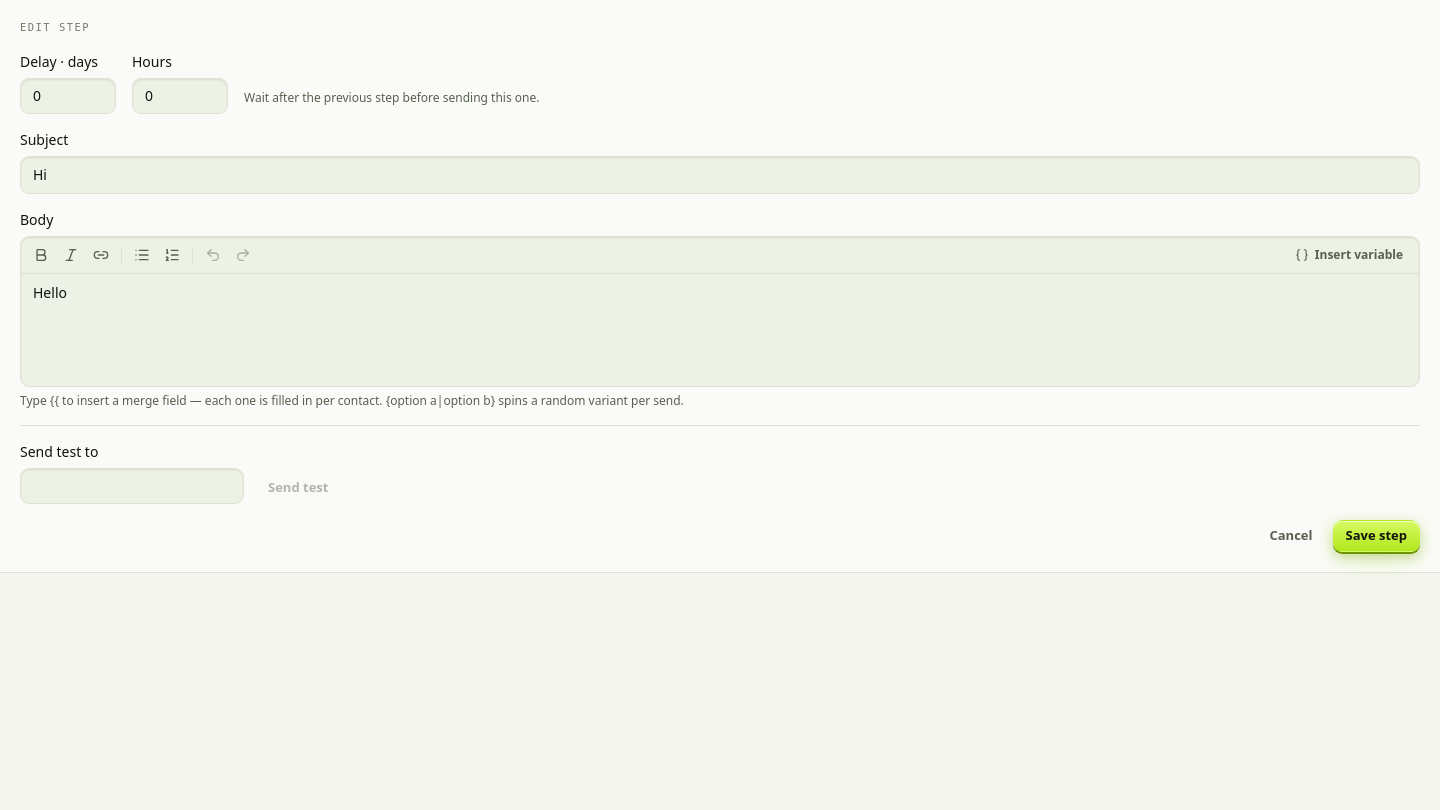
the Send test button is disabled while the address field is empty
expect the button "Send test" is disabled: met, box [256,472,340,504]
Type "a@b.com" into the field labelled "Send test to".
click(132, 486); type("a@b.com")  # box [20,468,244,504]
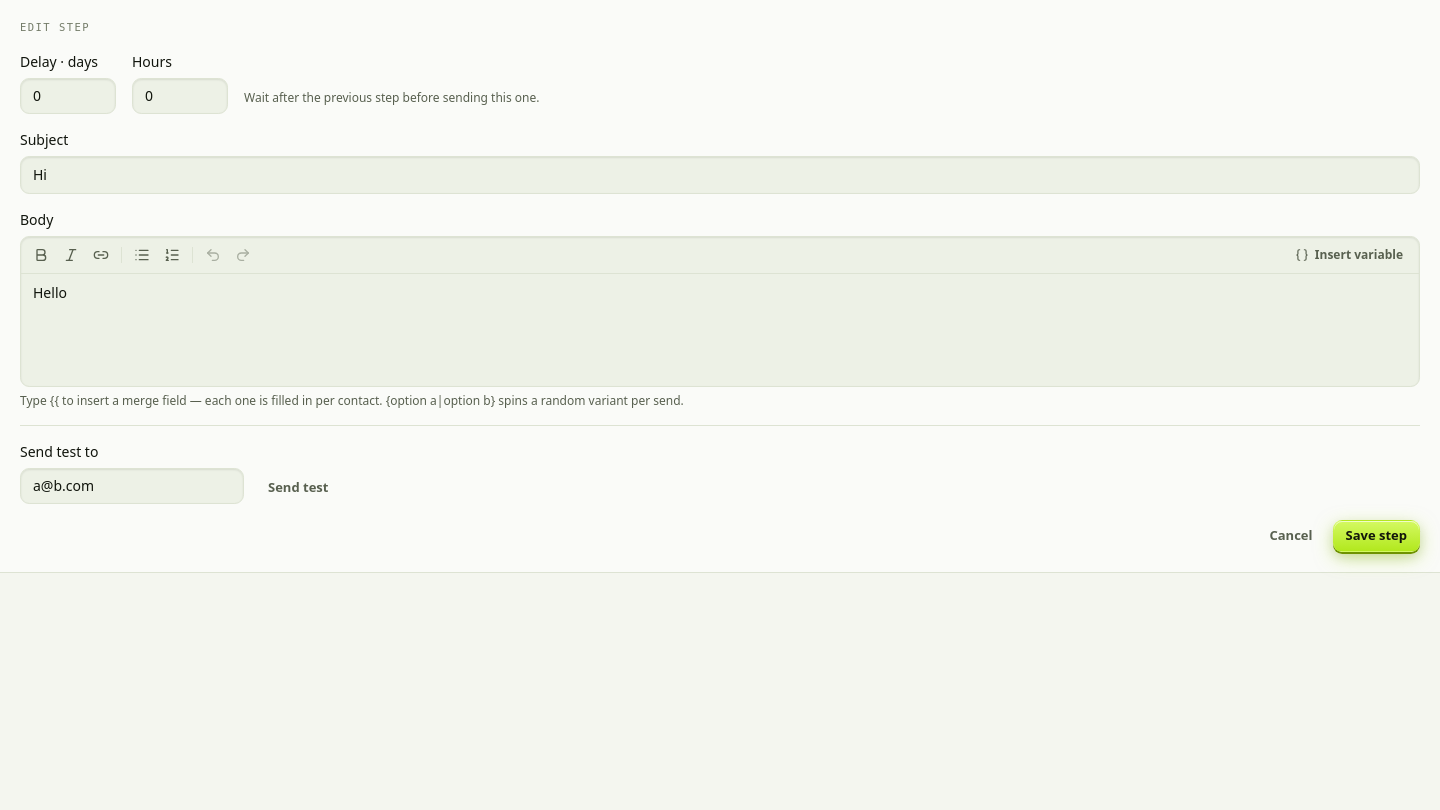
expect the button "Send test" is enabled: met, box [256,472,340,504]
